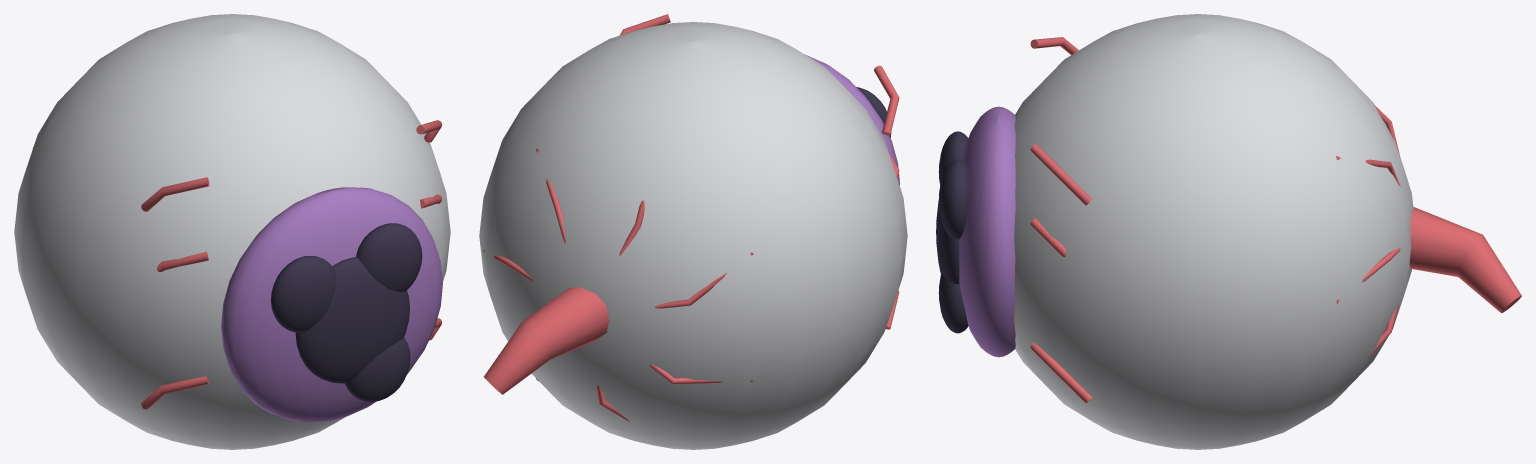
File: polycoria.glb
3 renders of one model, left to right at view 1: azimuth 30°, elevation 25°; view 2: azimuth 150°, elevation 25°; view 3: azimuth 270°, elevation 25°, orthographic.
Bounding box in the file's own units: 20 × 20 × 26.85.
